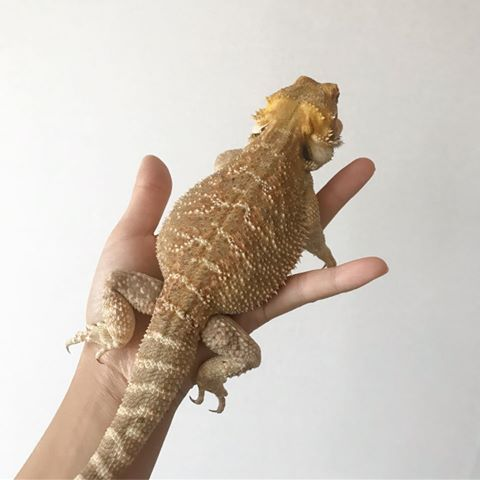bearded: (65, 75, 345, 480)
